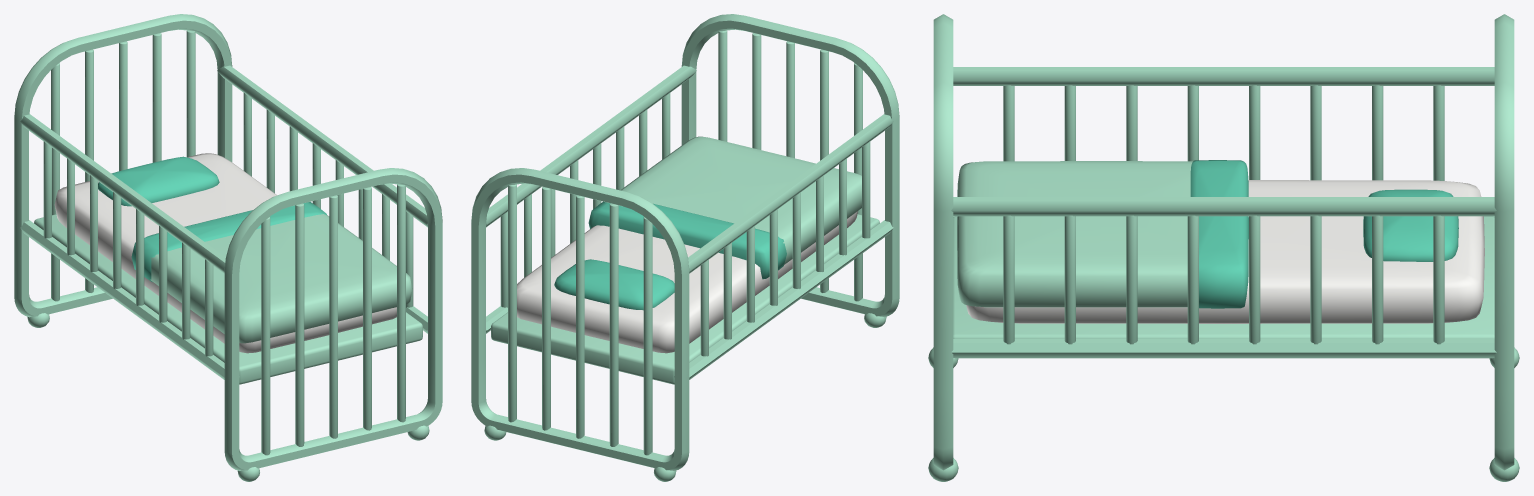
File: berco_redondo_menta.glb
The picture shows the model from 3 angles, left to right: view 1: azimuth 30°, elevation 25°; view 2: azimuth 150°, elevation 25°; view 3: azimuth 270°, elevation 25°; orthographic projection. The views are drawn at different scales.
Visible parts, largest first — view 1: berco_redondo_menta; view 2: berco_redondo_menta; view 3: berco_redondo_menta.
Part boxes in pixels (x1,y1,x2,y2): berco_redondo_menta: [14, 14, 442, 481]; berco_redondo_menta: [471, 14, 899, 481]; berco_redondo_menta: [928, 14, 1519, 481].
Bounding box in the file's own units: 0.772 × 0.946 × 1.36.
Materials: 1 (1 with a texture image).
